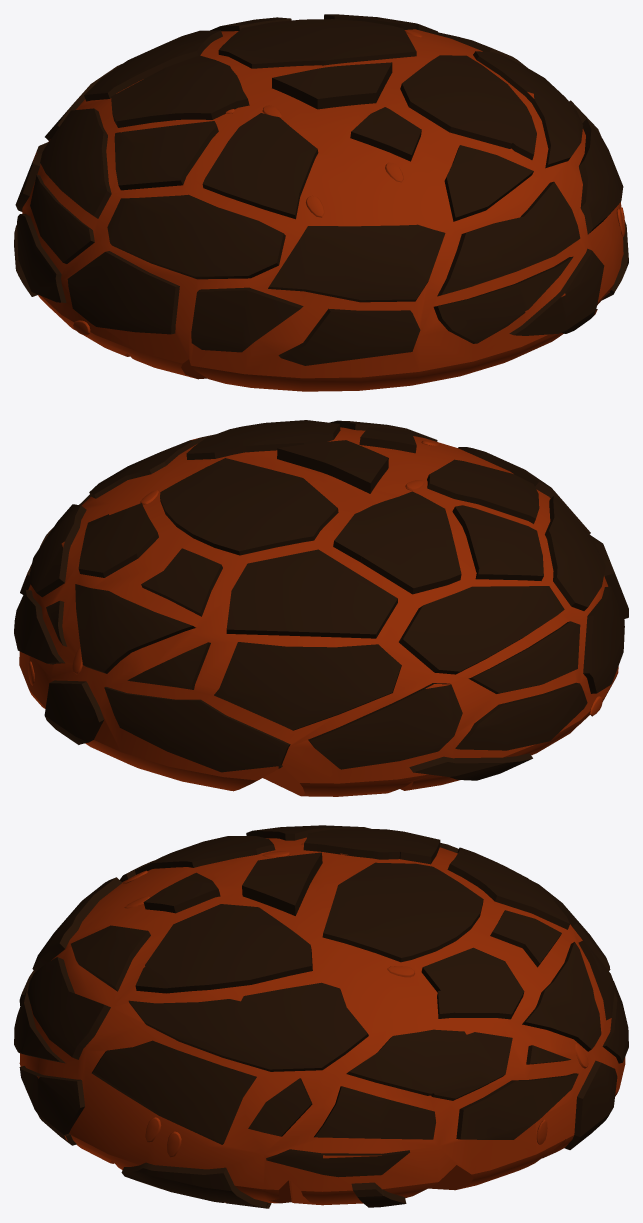
File: Burger_skin_FIRE TOP.fbx
The picture shows the model from 3 angles, top to bottom: view 1: azimuth 30°, elevation 25°; view 2: azimuth 150°, elevation 25°; view 3: azimuth 270°, elevation 25°; orthographic projection.
Parts seen in each view (by area): view 1: Burger Bread A.001; view 2: Burger Bread A.001; view 3: Burger Bread A.001.
Part boxes in pixels (bbox=[...]): Burger Bread A.001: bbox=[14, 14, 628, 391]; Burger Bread A.001: bbox=[14, 420, 628, 796]; Burger Bread A.001: bbox=[14, 825, 628, 1208].
Bounding box in the file's own units: 76.21 × 29.84 × 75.88.
